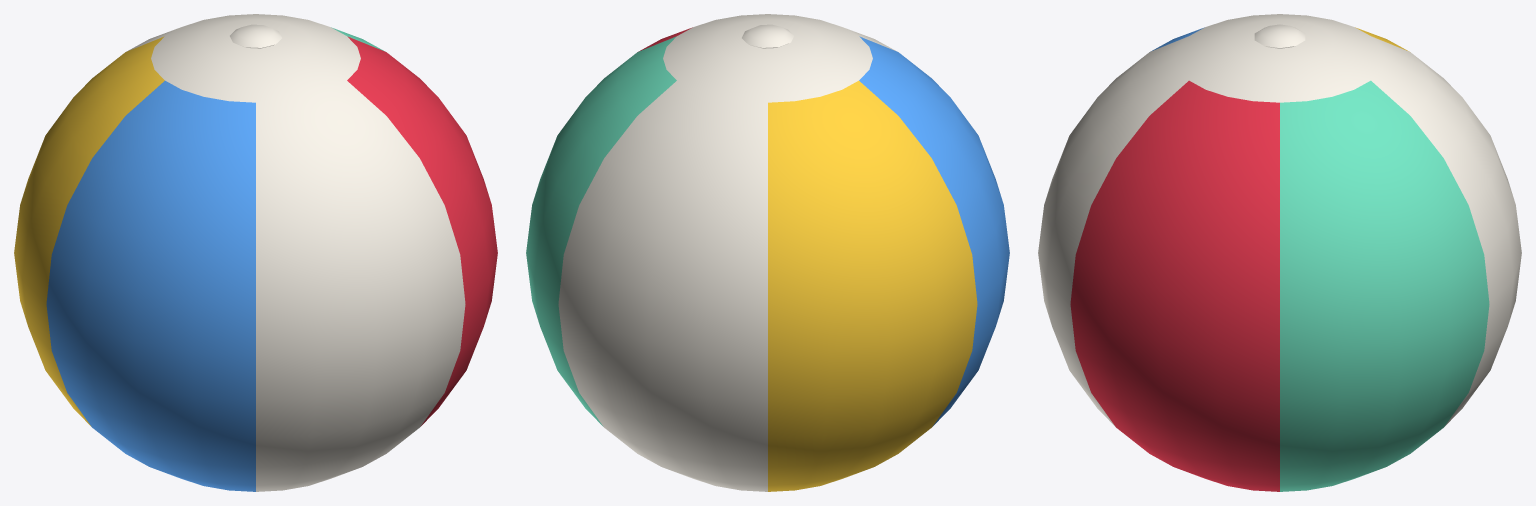
The model's file is BeachBall.fbx.
The picture shows the model from 3 angles, left to right: view 1: azimuth 30°, elevation 25°; view 2: azimuth 150°, elevation 25°; view 3: azimuth 270°, elevation 25°; orthographic projection.
Visible parts, largest first — view 1: BeachBall; view 2: BeachBall; view 3: BeachBall.
Part boxes in pixels (x1,y1,x2,y2): BeachBall: (14, 14, 497, 491); BeachBall: (526, 14, 1009, 491); BeachBall: (1038, 14, 1521, 491).
Bounding box in the file's own units: 0.4 × 0.4 × 0.4.
